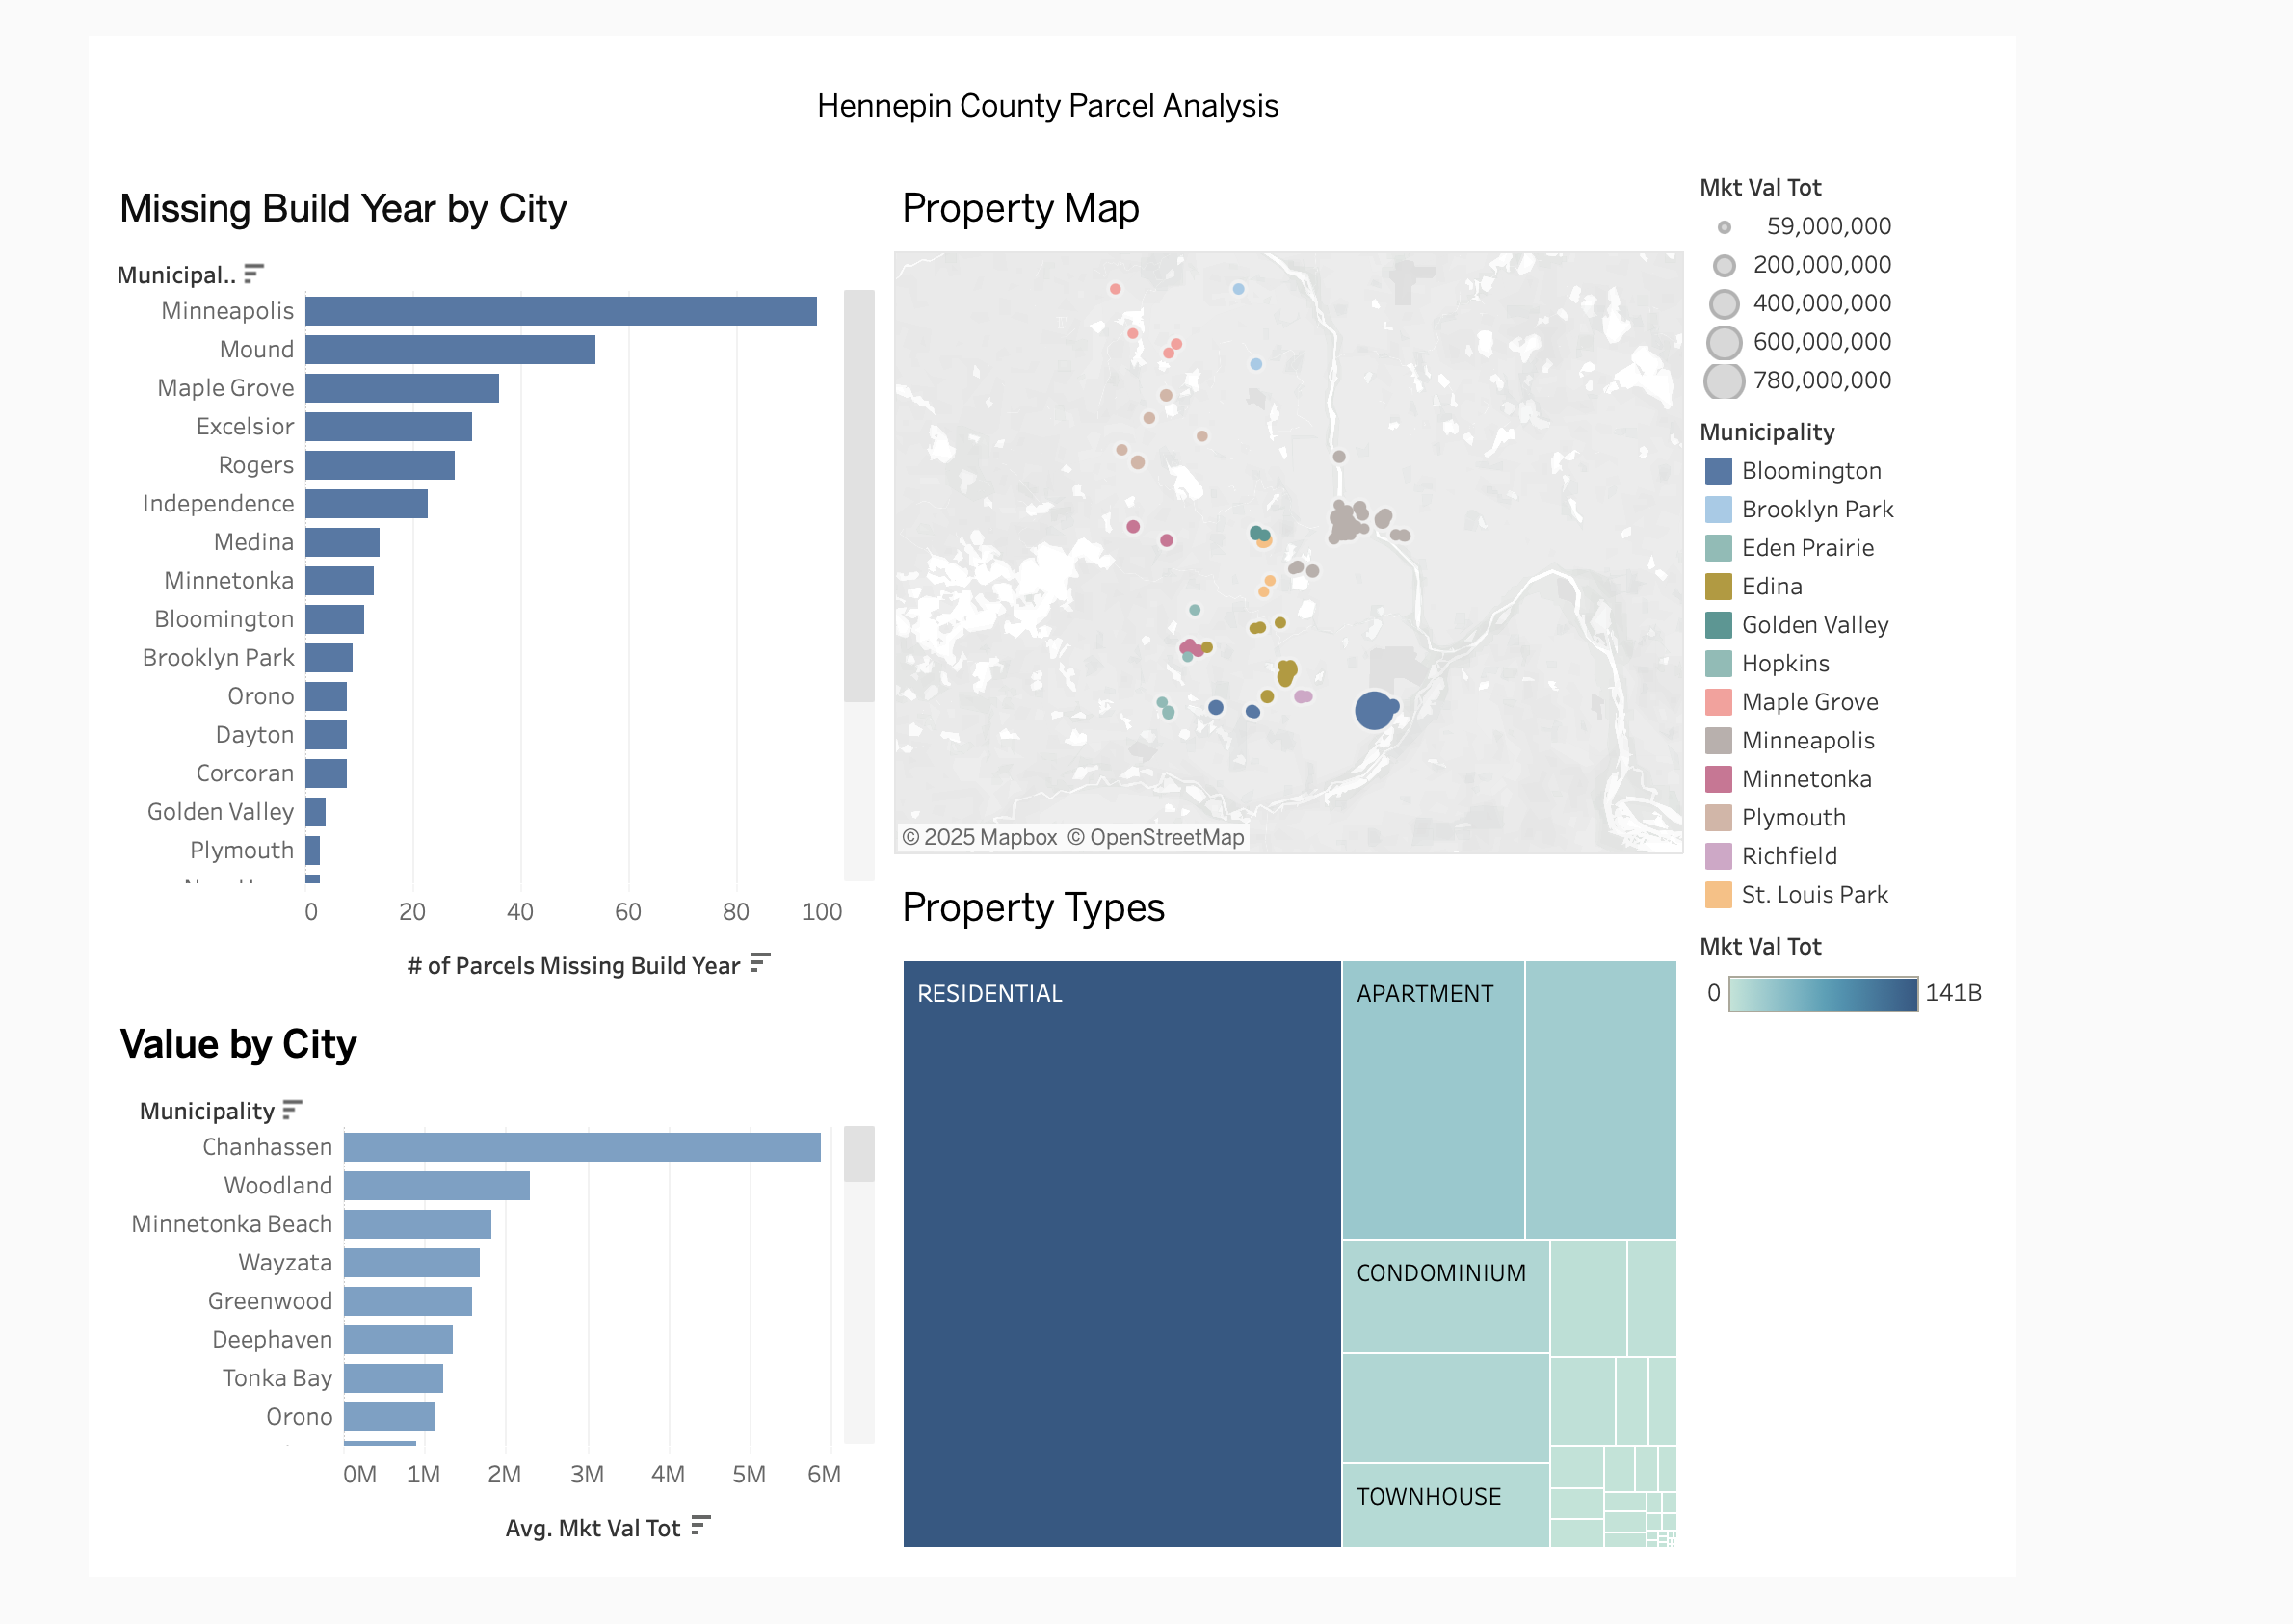

The dashboard page shown, as its layout file describes it:
{"tool":"tableau","page":{"name":"Dashboard 1","canvas":[1000,800],"ordinal":0},"visuals":[{"type":"text","box":[8,8,984,58]},{"type":"worksheet","title":"Sheet 2","mark":"Automatic","rows":["municipality"],"cols":["pid"],"box":[8,66,406,434]},{"type":"worksheet","title":"Sheet 4","mark":"Automatic","rows":["lat"],"cols":["lon"],"box":[414,66,418,363]},{"type":"legend","title":"Sheet 4","param":"[federated.1dzm9fy1hgh90h17hiaoy04gz7vt].[sum:mkt_val_tot:qk]","box":[832,66,160,126]},{"type":"legend","title":"Sheet 4","param":"[federated.1dzm9fy1hgh90h17hiaoy04gz7vt].[none:municipality:nk]","box":[832,192,160,266]},{"type":"worksheet","title":"Sheet 3","mark":"Automatic","box":[414,429,418,363]},{"type":"legend","title":"Sheet 3","param":"[federated.1dzm9fy1hgh90h17hiaoy04gz7vt].[sum:mkt_val_tot:qk]","box":[832,458,160,65]},{"type":"worksheet","title":"Sheet 1","mark":"Automatic","rows":["municipality"],"cols":["mkt_val_tot"],"box":[8,500,406,292]}]}

Visuals, with their boxes on the page's 1000x800 design canvas (x1, y1, x2, y2). These are canvas units, not pixel positions in the 2293x1624 screenshot, which may show the page scaled, cropped or inside an application window:
text: [x1=8, y1=8, x2=992, y2=66]
"Sheet 2" worksheet: [x1=8, y1=66, x2=414, y2=500]
"Sheet 4" worksheet: [x1=414, y1=66, x2=832, y2=429]
"Sheet 4" legend: [x1=832, y1=66, x2=992, y2=192]
"Sheet 4" legend: [x1=832, y1=192, x2=992, y2=458]
"Sheet 3" worksheet: [x1=414, y1=429, x2=832, y2=792]
"Sheet 3" legend: [x1=832, y1=458, x2=992, y2=523]
"Sheet 1" worksheet: [x1=8, y1=500, x2=414, y2=792]
